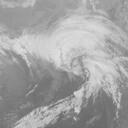cyclone: (39, 22, 115, 90)
